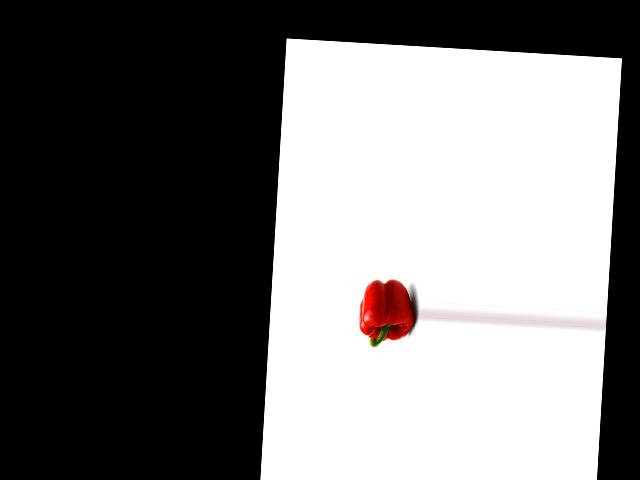bell_pepper: (357, 272, 415, 353)
